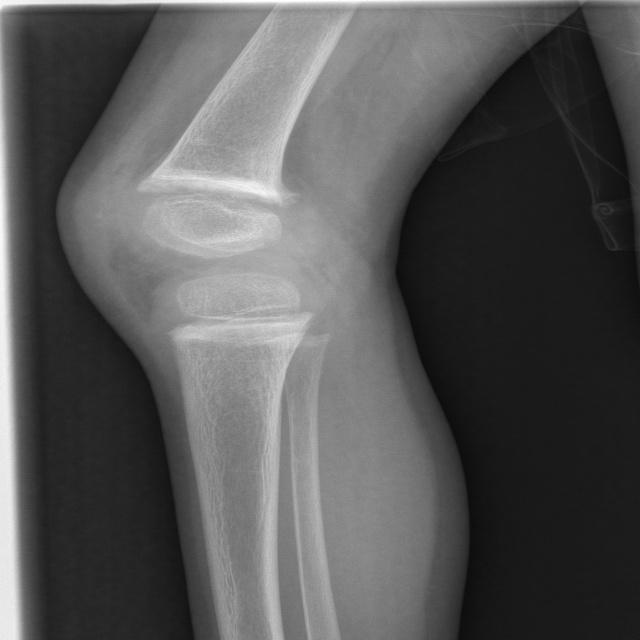Knee: (122, 156, 321, 366)
